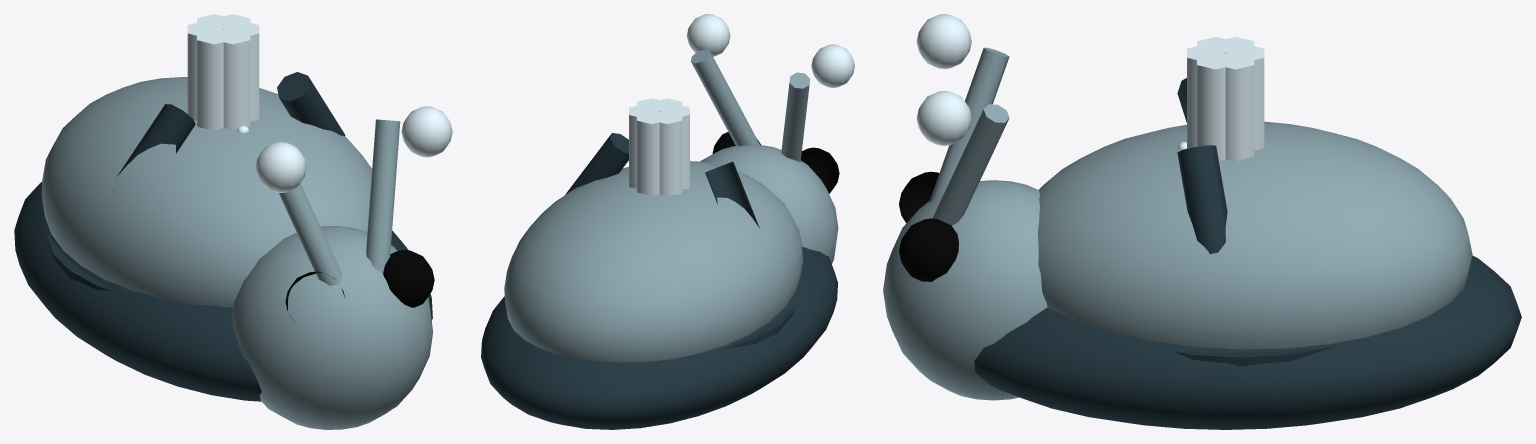
Rendered from huracan.obj.
3 renders of one model, left to right at view 1: azimuth 30°, elevation 25°; view 2: azimuth 150°, elevation 25°; view 3: azimuth 270°, elevation 25°, orthographic. The views are drawn at different scales.
Size of the model in its own units: 0.496 by 0.4712 by 0.8023.
